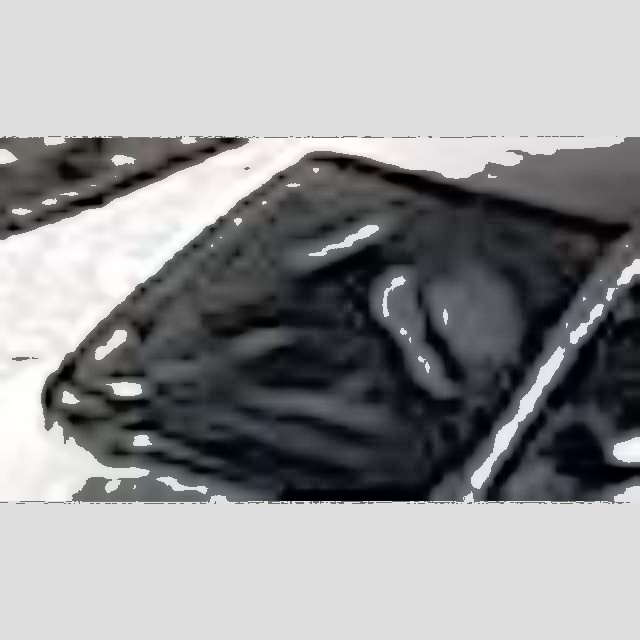pakai: (337, 216, 519, 406)
